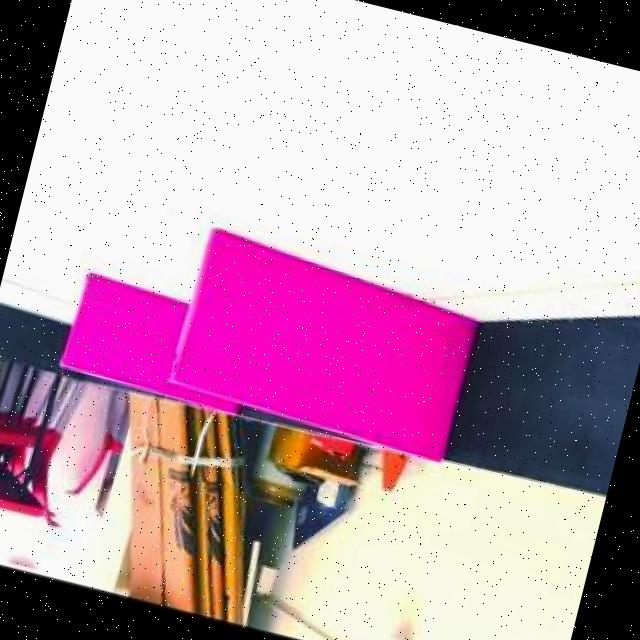xparking: (169, 246, 476, 448), (60, 273, 181, 392)
